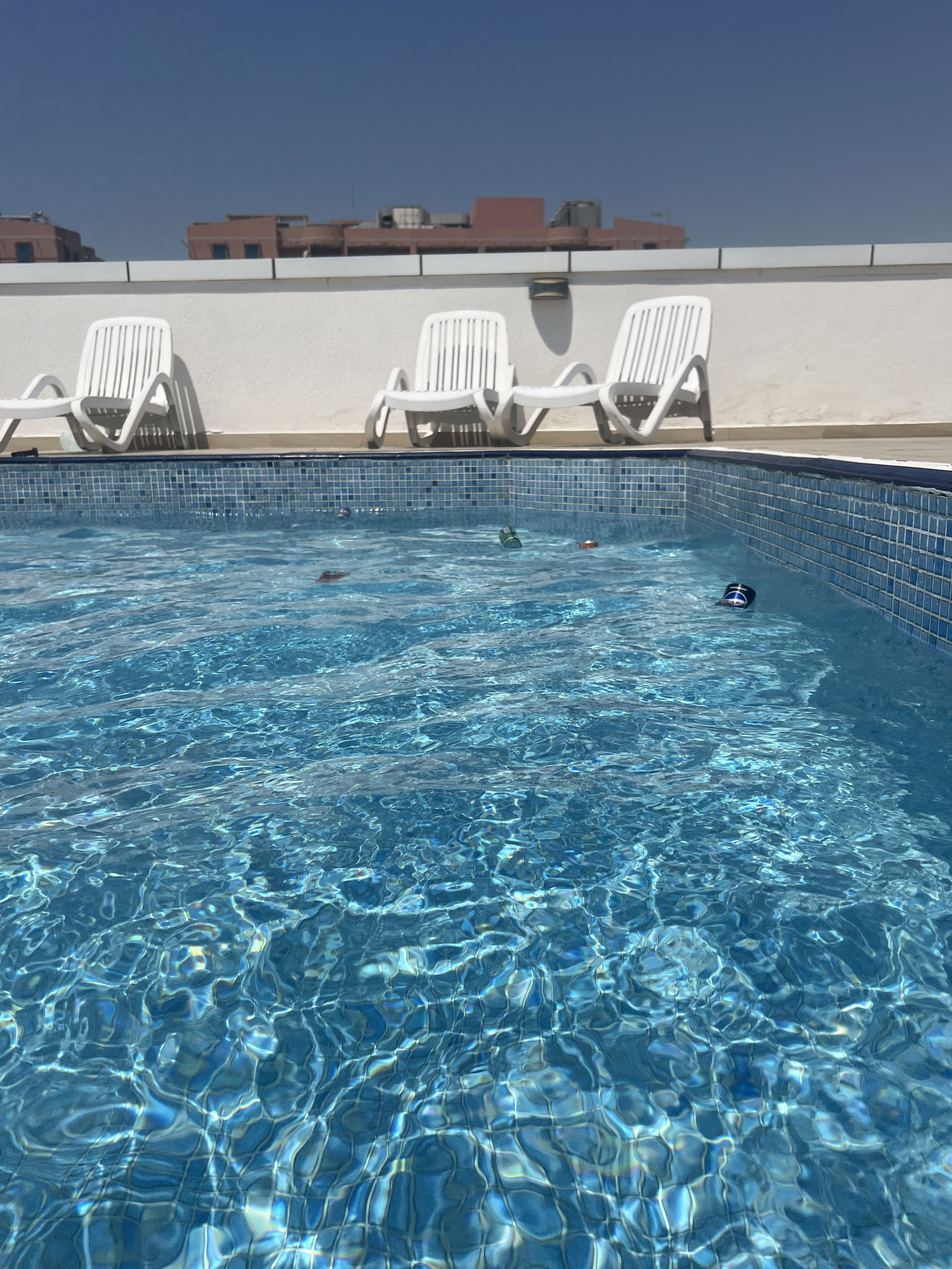debris: (710, 567, 758, 641), (492, 518, 524, 567), (576, 527, 602, 574)
